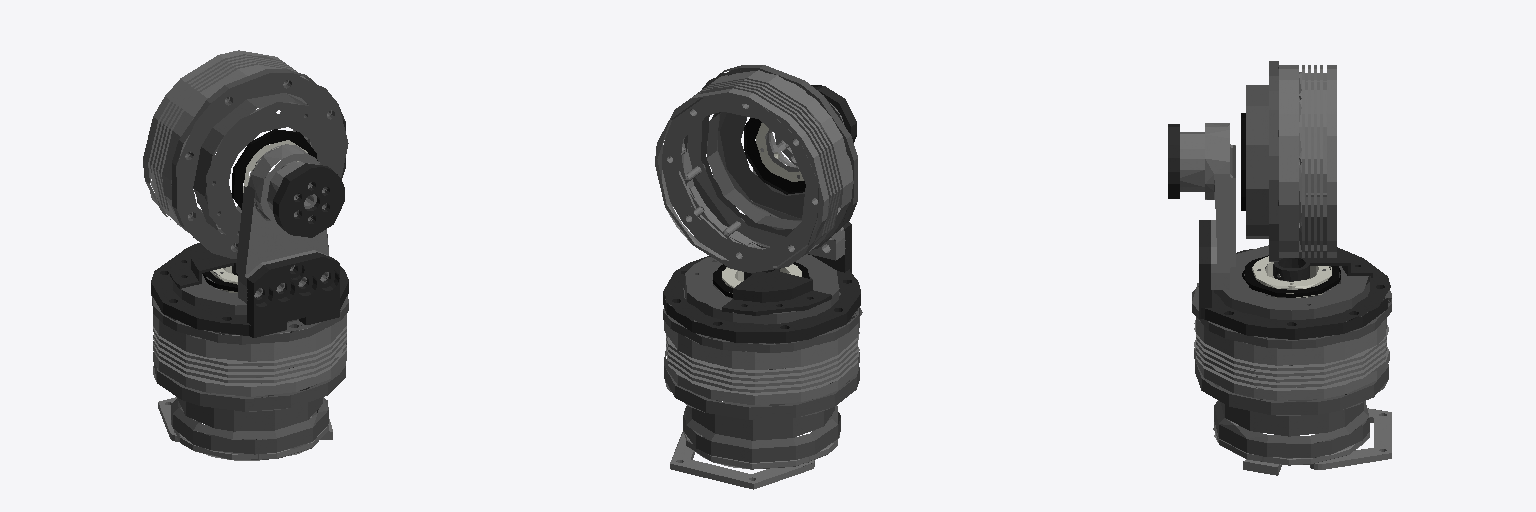
3 views of the same model, side by side, from view 1: azimuth 30°, elevation 25°; view 2: azimuth 150°, elevation 25°; view 3: azimuth 270°, elevation 25° (orthographic).
Size of the model in its own units: 0.065 by 0.1316 by 0.0724.
1 materials, 1 textured.